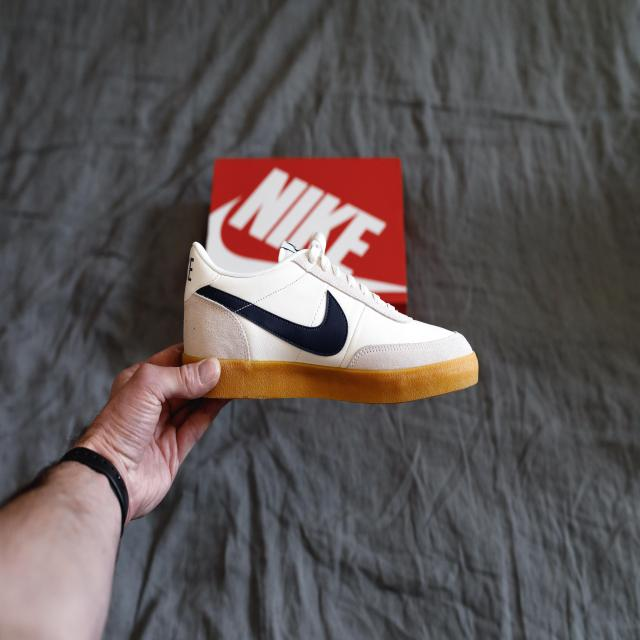shoe: (179, 232, 480, 406)
